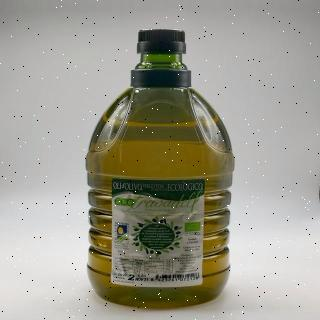Plastic-bottle: (81, 28, 241, 314)
